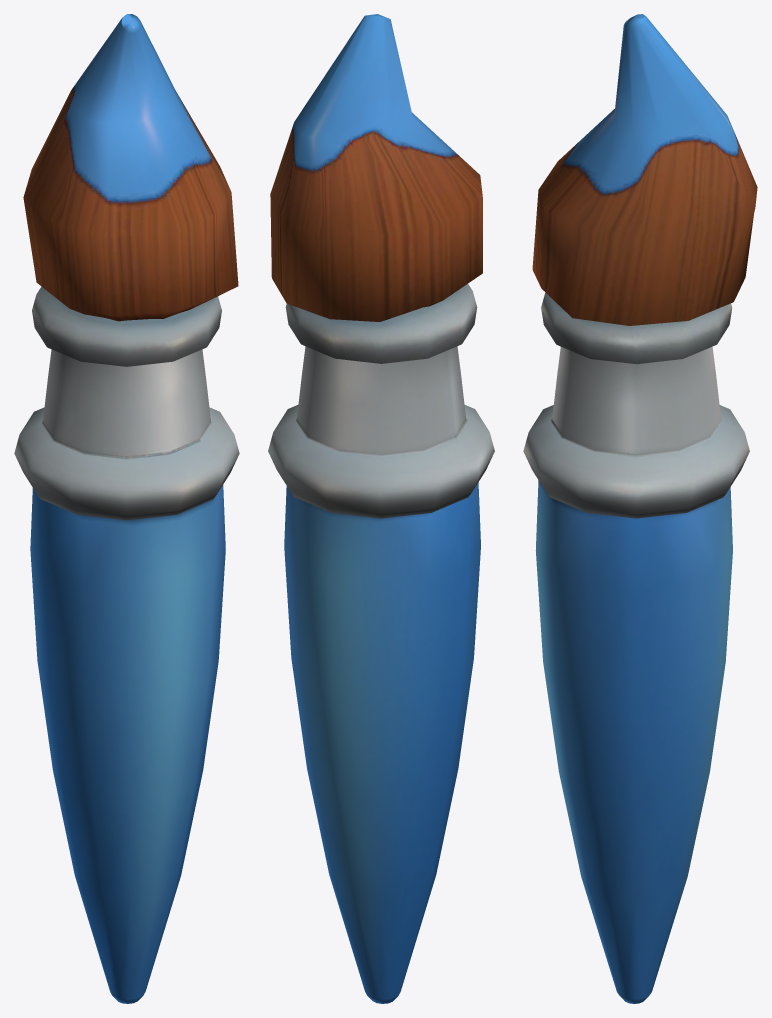
The model's file is 0-brush_blue.fbx.
The picture shows the model from 3 angles, left to right: view 1: azimuth 30°, elevation 25°; view 2: azimuth 150°, elevation 25°; view 3: azimuth 270°, elevation 25°; orthographic projection.
Visible parts, largest first — view 1: 0-brush_blue; view 2: 0-brush_blue; view 3: 0-brush_blue.
Boxes of the visible parts, x1,y1,x2,y2 form: 0-brush_blue: (14, 14, 239, 1003); 0-brush_blue: (268, 14, 494, 1003); 0-brush_blue: (523, 14, 757, 1003).
Bounding box in the file's own units: 19.8 × 95.31 × 20.47.
